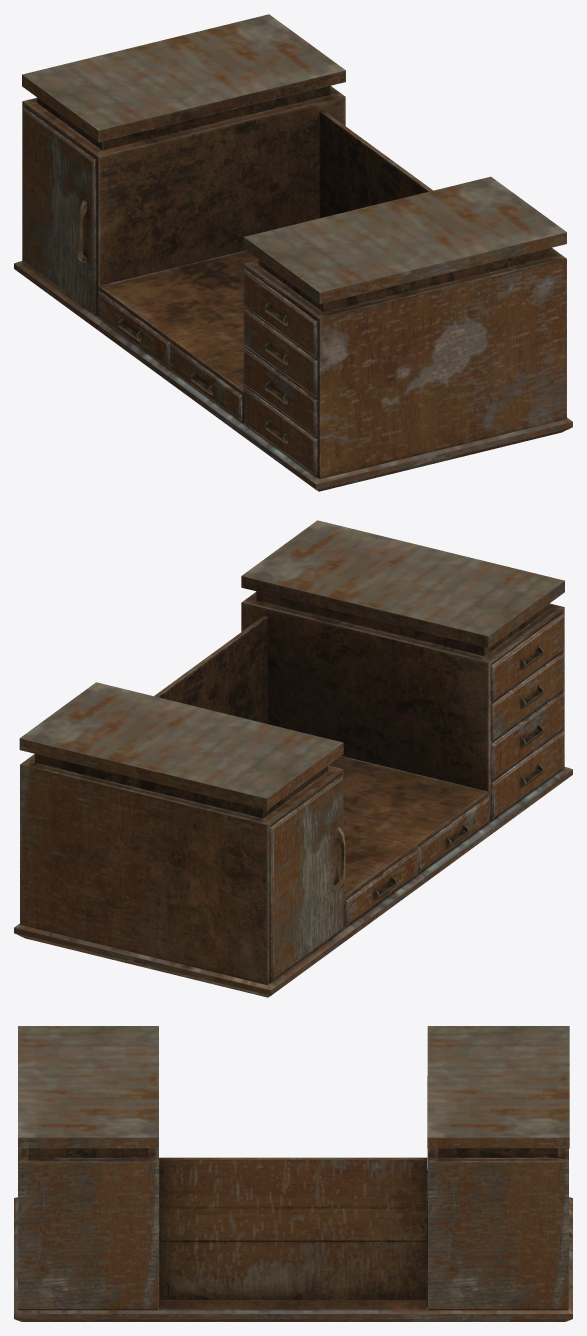
File: escritorio 1.FBX
3 views of the same model, one above another, from view 1: azimuth 30°, elevation 25°; view 2: azimuth 150°, elevation 25°; view 3: azimuth 270°, elevation 25° (orthographic). The views are drawn at different scales.
Visible parts, largest first — view 1: Desk; view 2: Desk; view 3: Desk.
Boxes of the visible parts, x1,y1,x2,y2 form: Desk: [14, 14, 572, 491]; Desk: [14, 520, 572, 997]; Desk: [14, 1026, 572, 1321].
Bounding box in the file's own units: 34.3 × 25.2 × 68.72.
